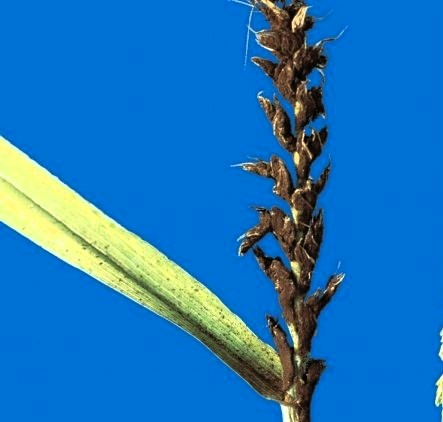Wheat Loose Smut: (244, 19, 337, 301)
